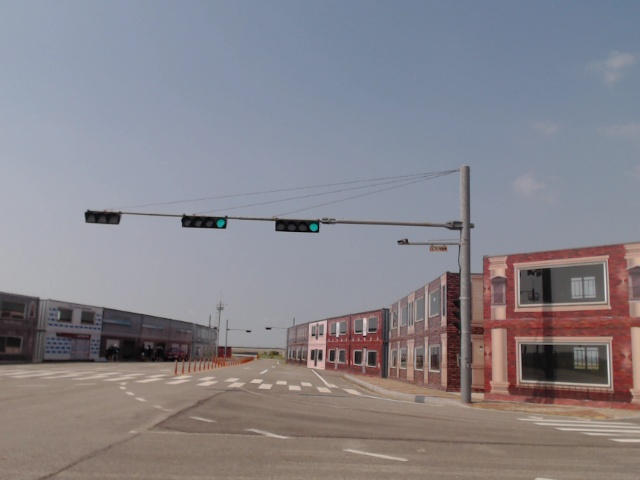straight_green_4: (274, 218, 319, 233), (182, 217, 227, 231)
